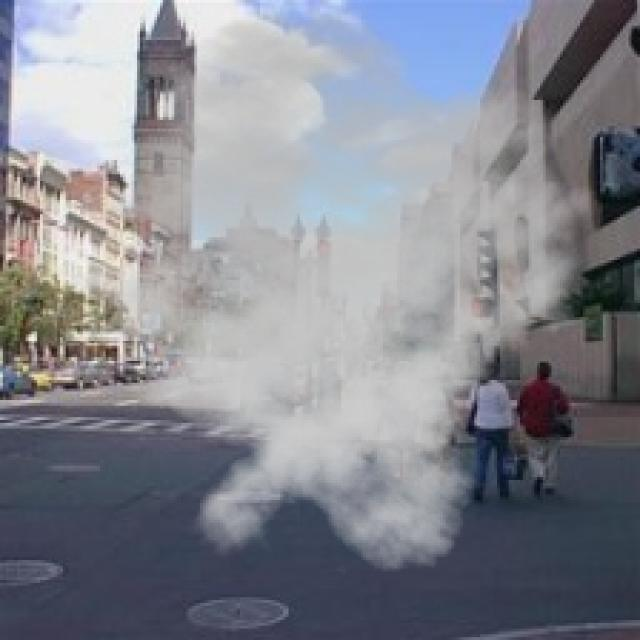smoke: (46, 9, 611, 574)
